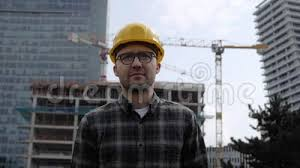Person_wearing_helmet: (105, 23, 170, 64)
